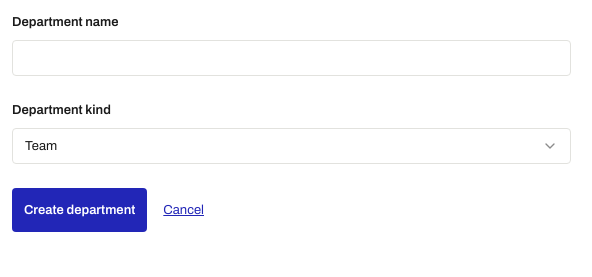
Test case: DepartmentForm › focuses a blank name and shows an accessible field error
The width and height of the screenshot is (592, 277).
What coordinates should you click on to do the following:
click the button "Create department"
I would click on:
 (80, 210)
Its box is [12, 188, 147, 232].
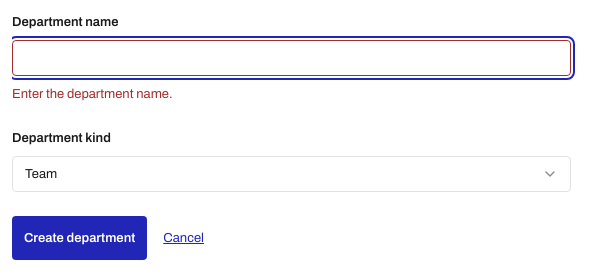
Result: the text "Enter the department name." is shown at [12, 87, 172, 101]
